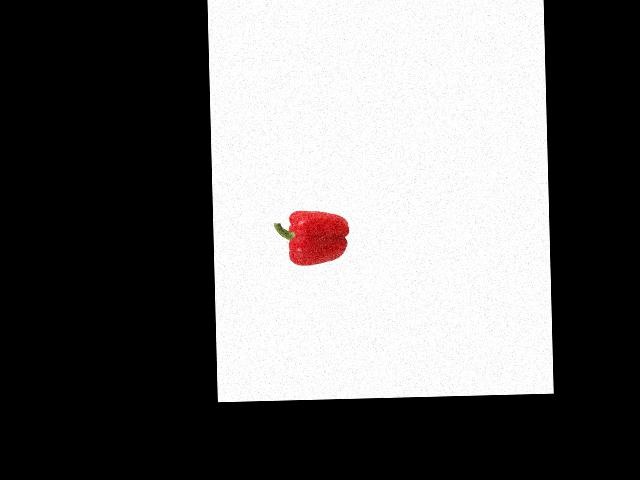bell_pepper: (274, 207, 350, 274)
